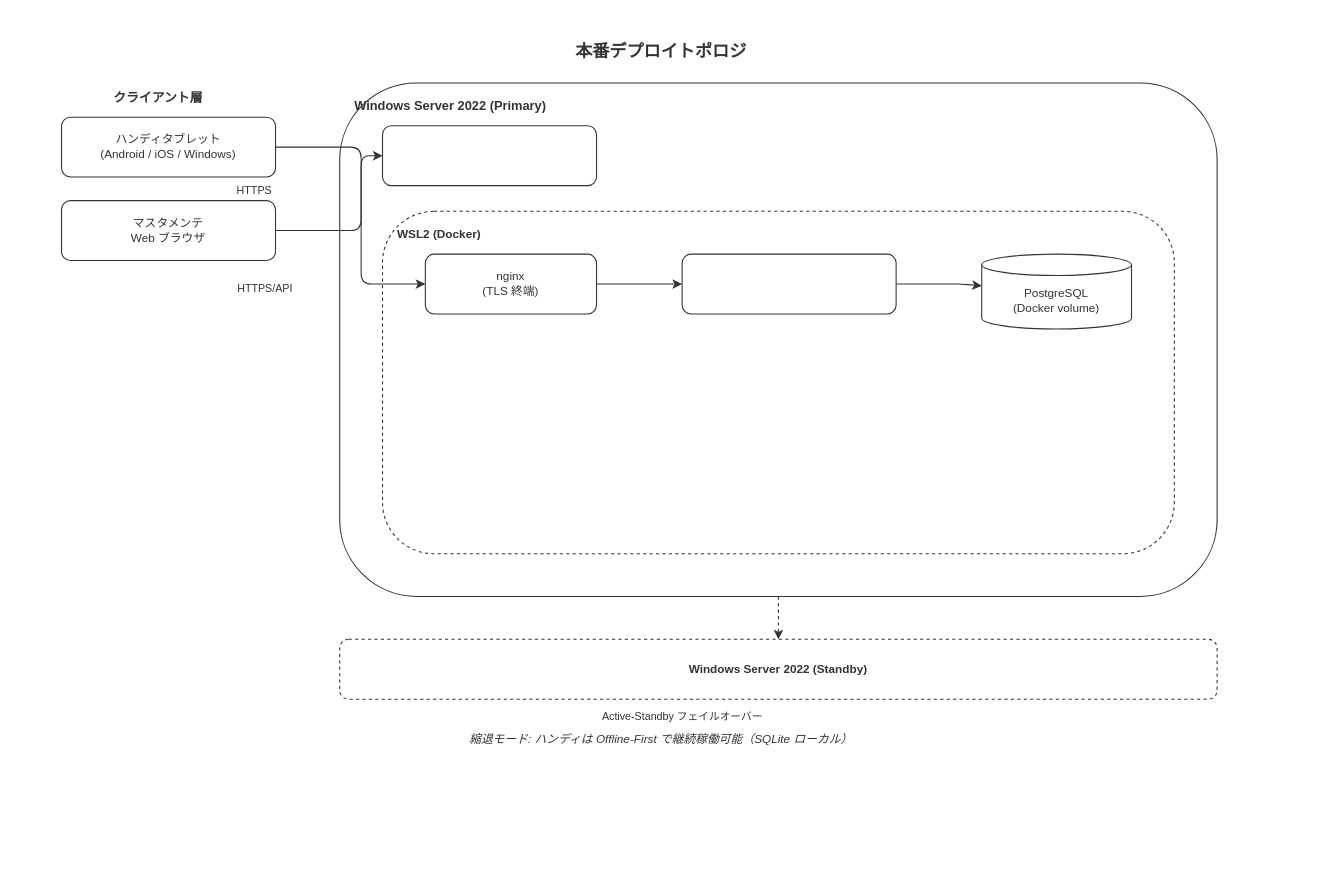
Some shapes in this 1320 by 892 pixel diagram are drawn without their labels. Each missing label, with the box of its shape:
IIS マスタメンテ SPA 配信: (381, 125, 597, 186)
バックエンド API (Docker: Rust + axum): (681, 253, 896, 314)
